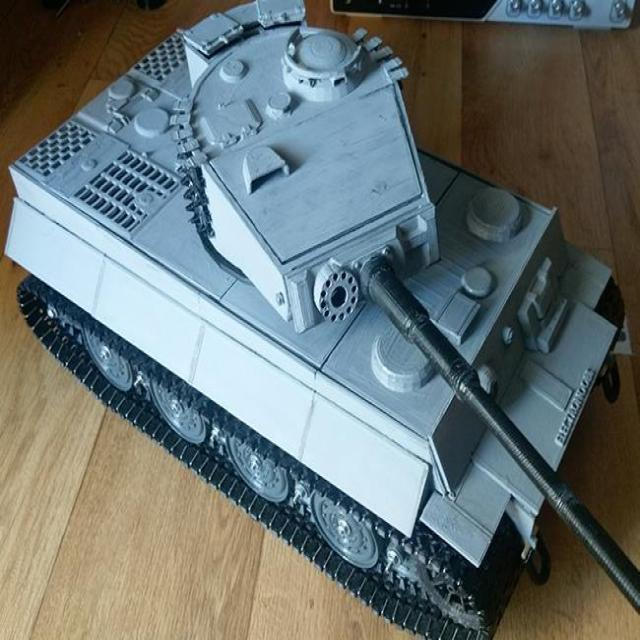Tanks: (14, 43, 546, 597)
